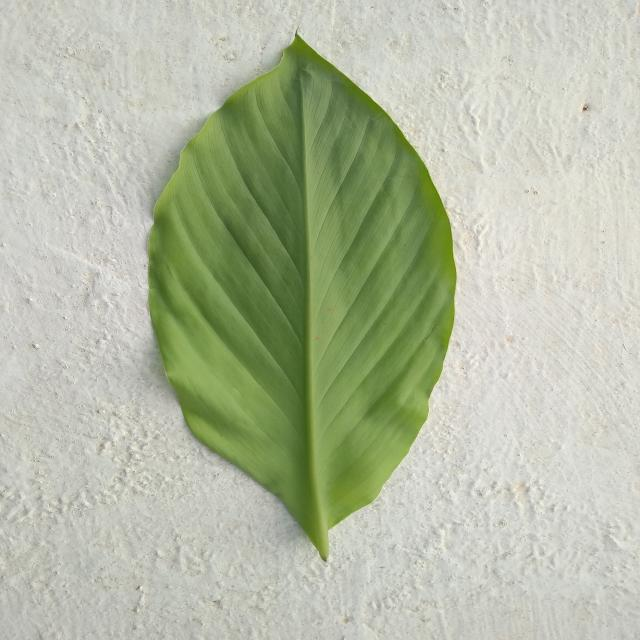turmeric: (149, 36, 456, 559)
